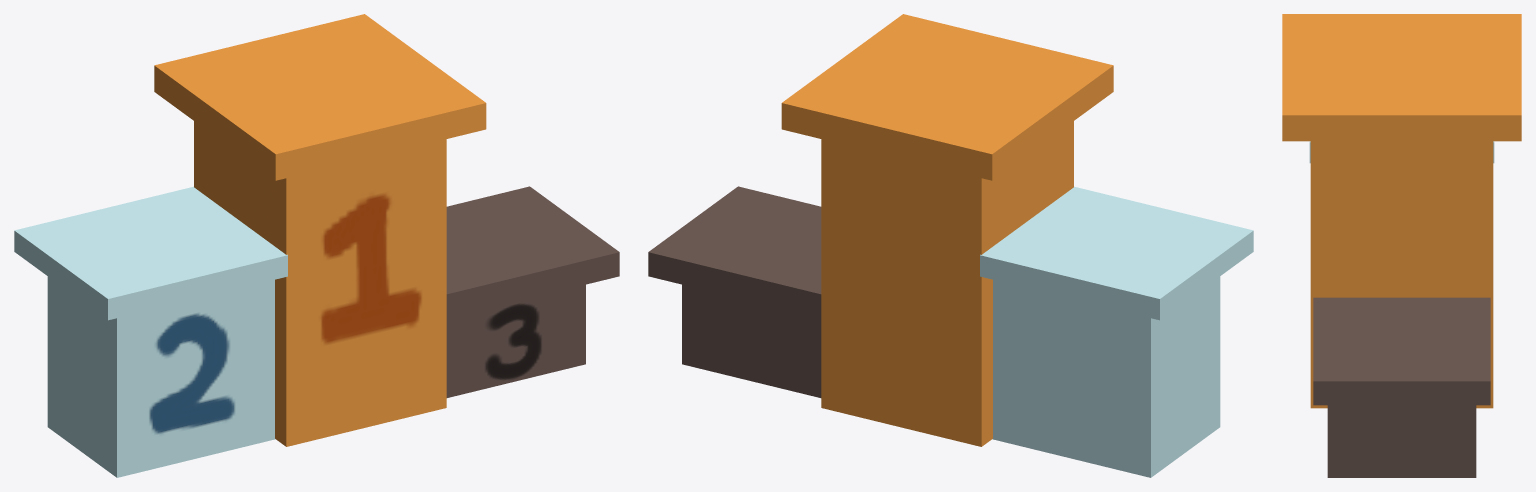
Rendered from podium.fbx.
3 views of the same model, side by side, from view 1: azimuth 30°, elevation 25°; view 2: azimuth 150°, elevation 25°; view 3: azimuth 270°, elevation 25° (orthographic).
Parts seen in each view (by area): view 1: pCube4; view 2: pCube4; view 3: pCube4.
Boxes of the visible parts, <box> form: pCube4: <box>14,14,619,477</box>; pCube4: <box>648,14,1253,477</box>; pCube4: <box>1282,14,1521,477</box>.
Size of the model in its own units: 14.39 by 8.31 by 5.9.
Materials: 3 (3 with a texture image).
